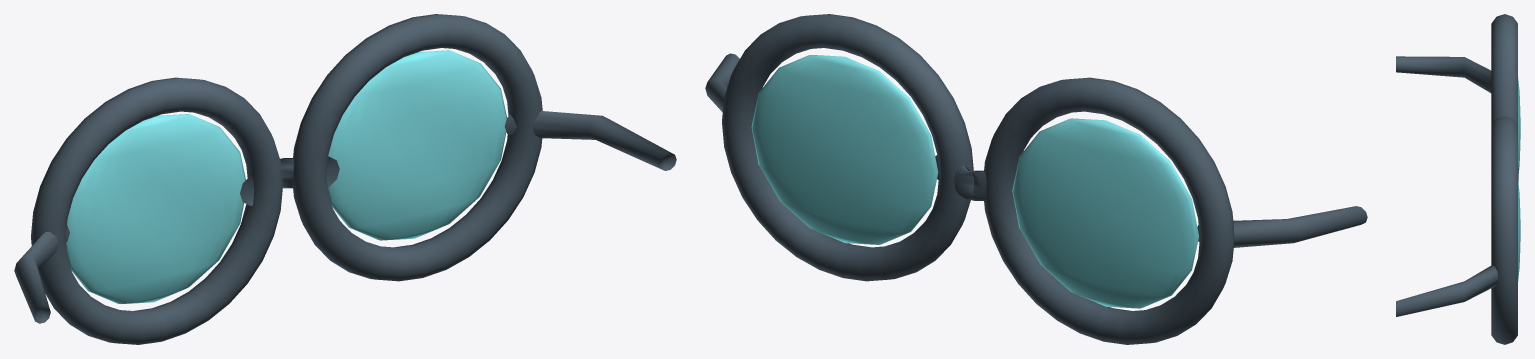
The model's file is wind-goggles.glb.
3 renders of one model, left to right at view 1: azimuth 30°, elevation 25°; view 2: azimuth 150°, elevation 25°; view 3: azimuth 270°, elevation 25°, orthographic. The views are drawn at different scales.
Parts seen in each view (by area): view 1: WindGoggles_Frame, WindGoggles_Lenses; view 2: WindGoggles_Lenses, WindGoggles_Frame; view 3: WindGoggles_Frame, WindGoggles_Lenses.
Part boxes in pixels (x1,y1,x2,y2): WindGoggles_Frame: (14,14,676,344); WindGoggles_Lenses: (66,50,506,303); WindGoggles_Lenses: (751,55,1198,308); WindGoggles_Frame: (705,14,1367,344); WindGoggles_Frame: (1396,14,1518,344); WindGoggles_Lenses: (1518,77,1520,281).
Size of the model in its own units: 1.48 by 0.57 by 0.31.
